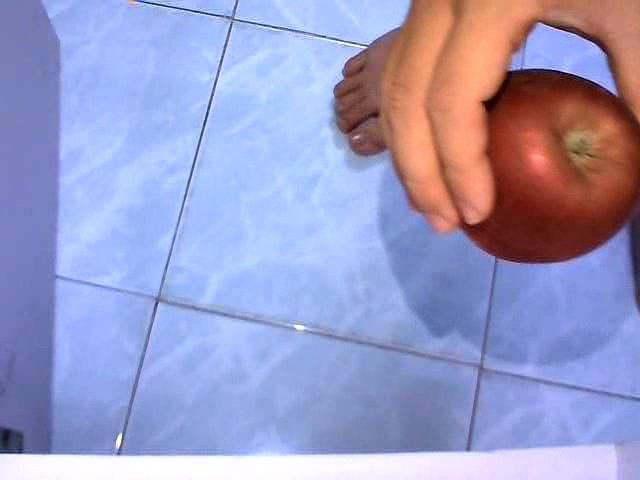apple: (448, 64, 640, 267)
